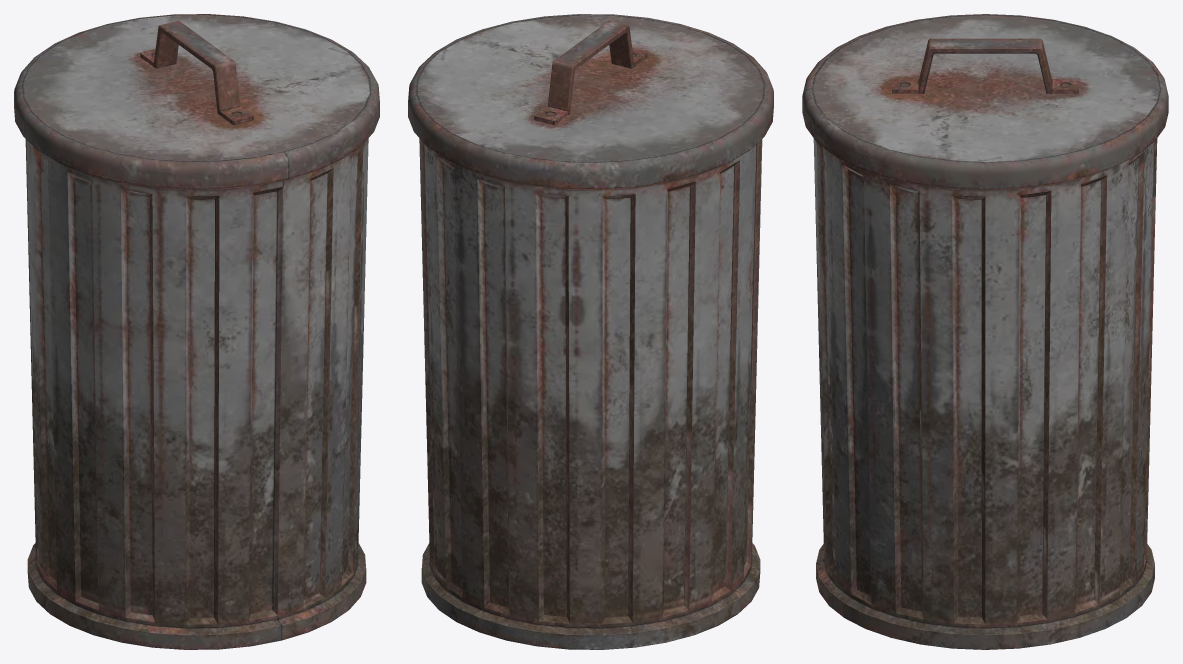
Rendered from metal_garbage_bin-opt.glb.
3 renders of one model, left to right at view 1: azimuth 30°, elevation 25°; view 2: azimuth 150°, elevation 25°; view 3: azimuth 270°, elevation 25°, orthographic.
Parts seen in each view (by area): view 1: Cylinder.001_metal bin_0; view 2: Cylinder.001_metal bin_0; view 3: Cylinder.001_metal bin_0.
Boxes of the visible parts, x1,y1,x2,y2 form: Cylinder.001_metal bin_0: (14, 14, 379, 649); Cylinder.001_metal bin_0: (408, 14, 773, 649); Cylinder.001_metal bin_0: (802, 14, 1168, 649).
Bounding box in the file's own units: 0.9085 × 1.46 × 0.9085.
Materials: 1 (1 with a texture image).
